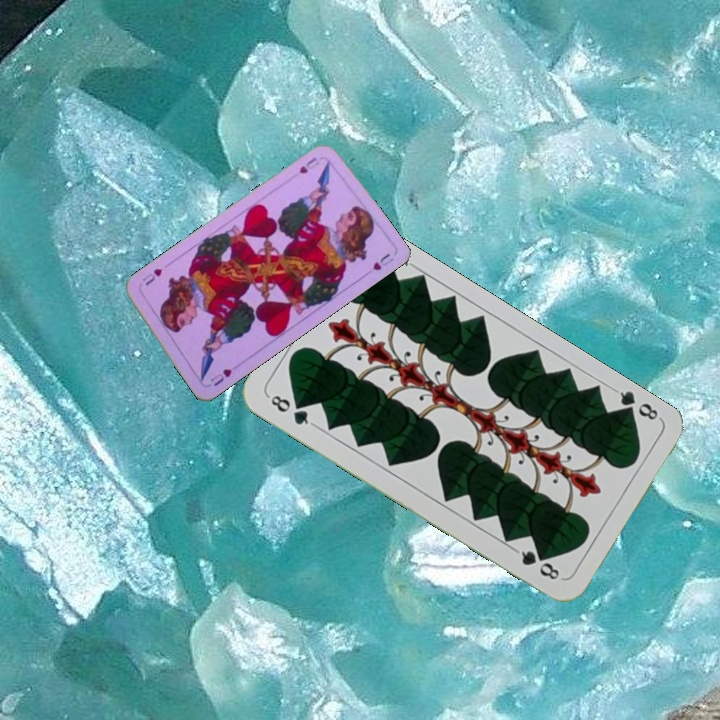G8: (610, 384, 663, 423), (264, 391, 317, 429)
HU: (206, 364, 234, 389), (295, 153, 325, 176)
